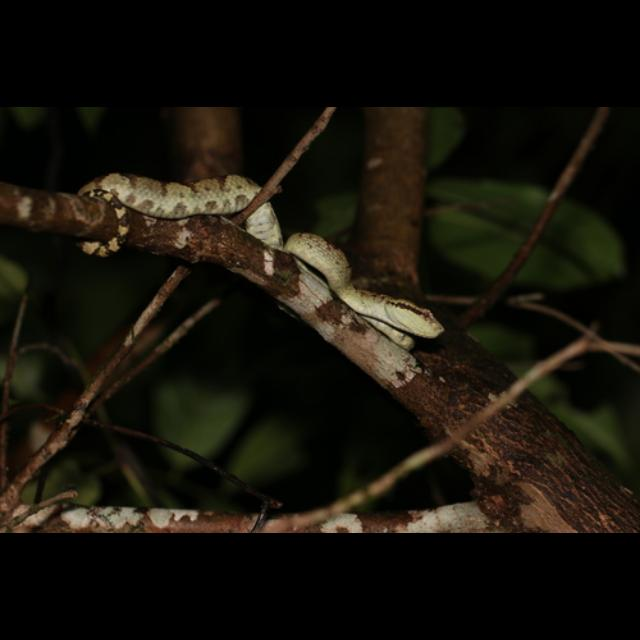snake: (82, 169, 446, 367)
